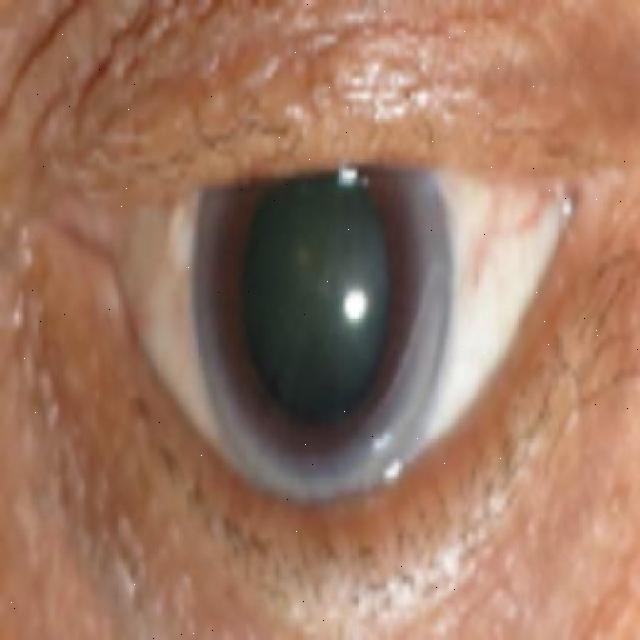Cataract: (191, 92, 459, 500)
